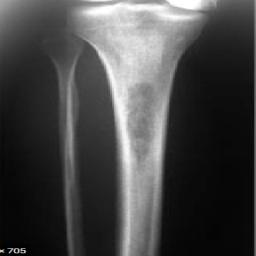cancer: (124, 82, 155, 168)
